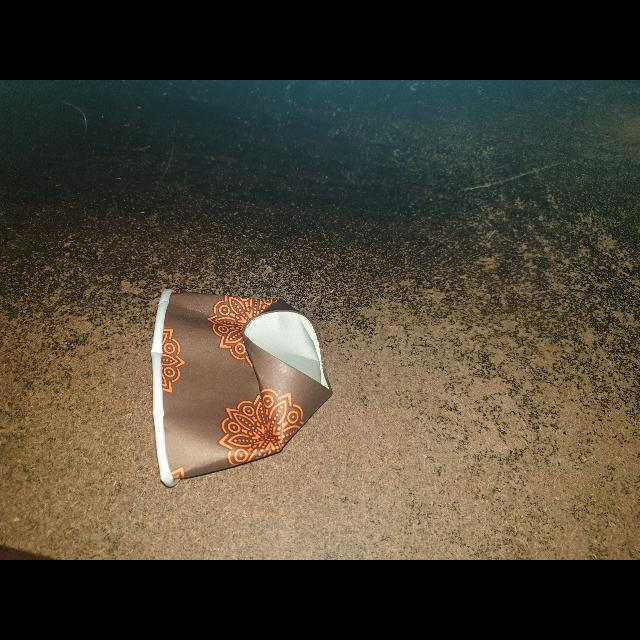trash: (144, 282, 340, 493)
